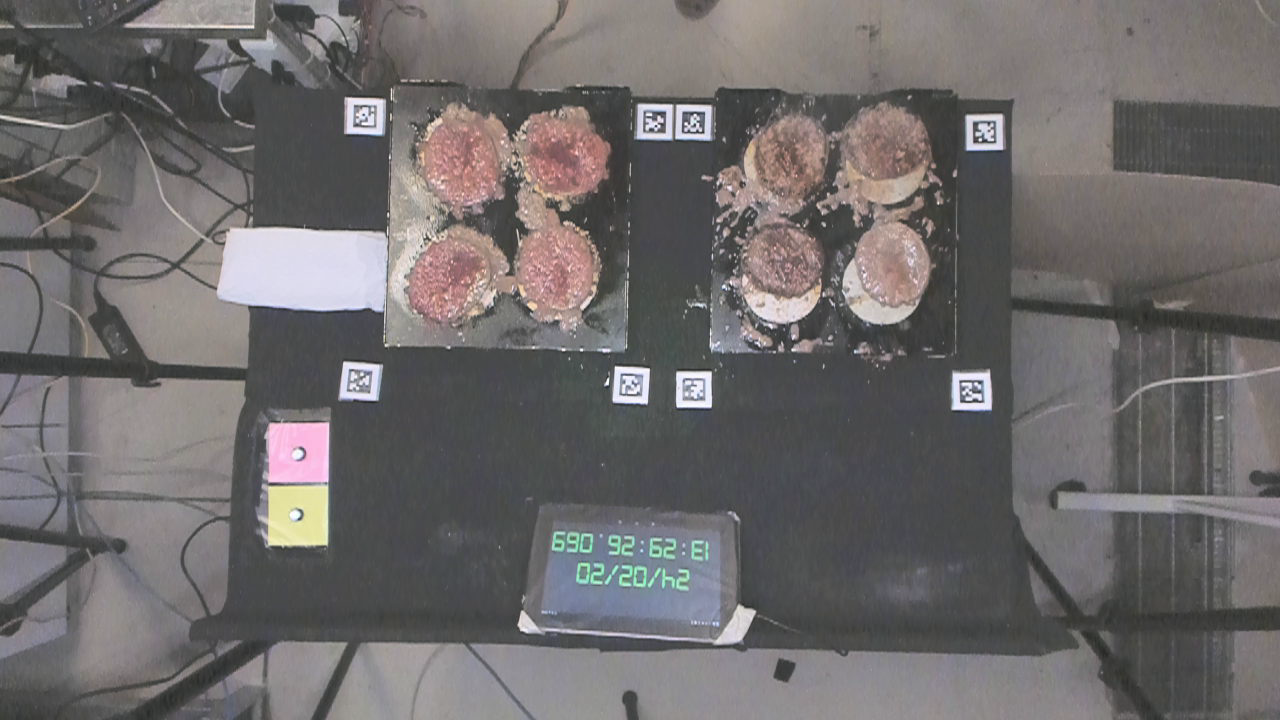hamburger: (843, 98, 937, 182), (403, 233, 494, 318), (420, 116, 503, 207), (750, 111, 831, 200), (520, 227, 601, 312), (522, 114, 607, 193), (739, 221, 821, 298), (852, 226, 930, 304)
marker: (263, 420, 332, 485)
